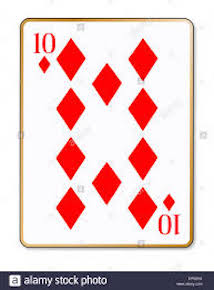TenOfDiamonds: (18, 13, 198, 249)
